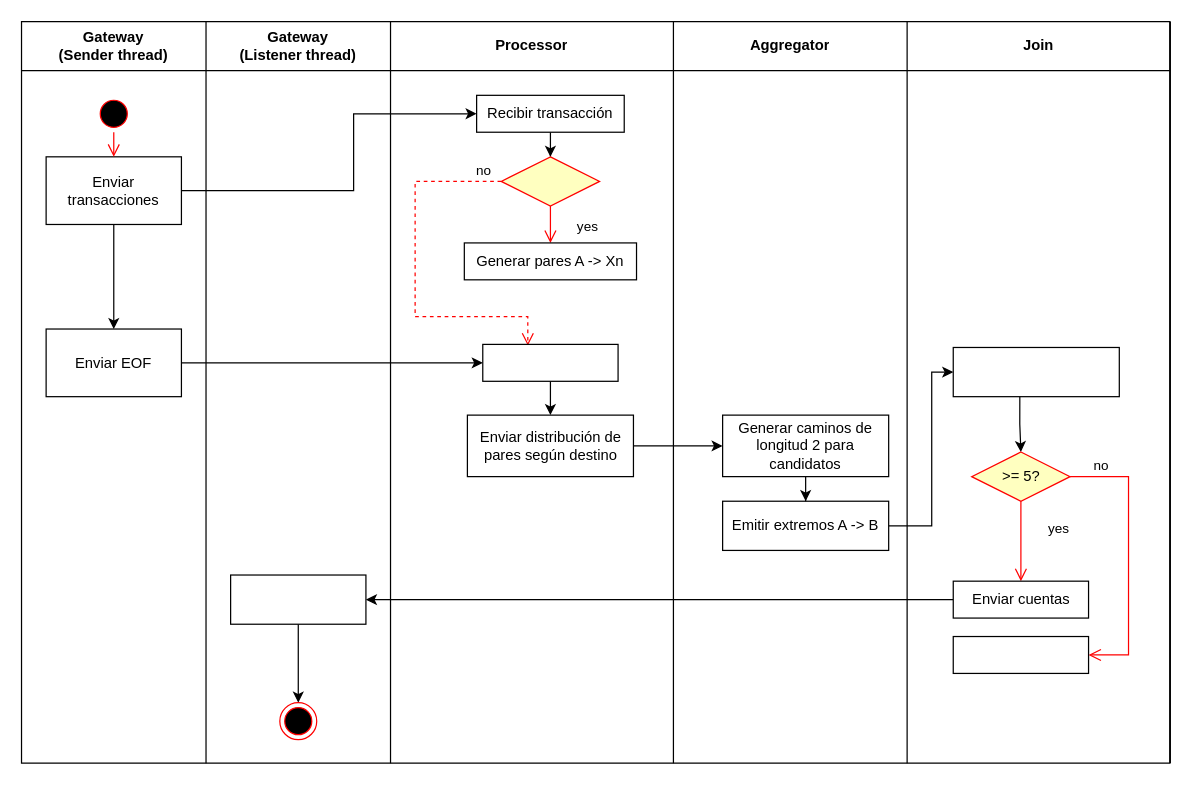
This 1192x785 diagram has some shape labels left out. Here are the shapes that lost their labels. From the top down, the centre of each, then its label:
the point at 550,181: Cumple filtro?
the point at 550,362: Recibir EOF
the point at 1035,371: Contar caminos repetidos
the point at 297,599: Enviar al Client
the point at 1020,654: Descartar
